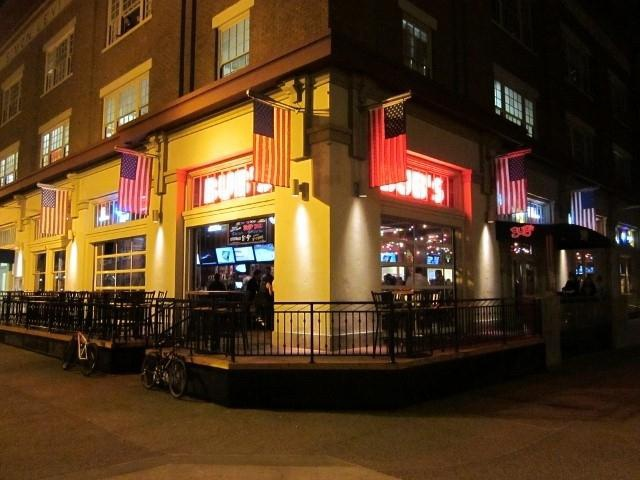non-vehicle: (140, 341, 188, 398), (61, 328, 98, 376)
